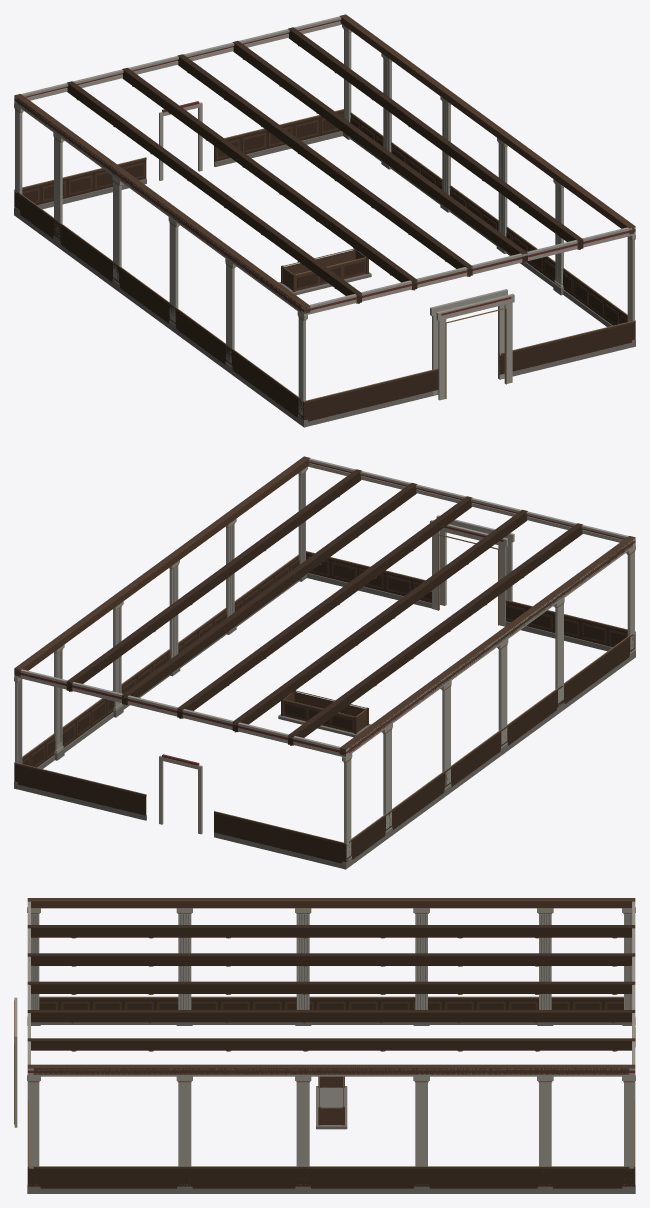
File: wrap.glb
The picture shows the model from 3 angles, top to bottom: view 1: azimuth 30°, elevation 25°; view 2: azimuth 150°, elevation 25°; view 3: azimuth 270°, elevation 25°; orthographic projection. The views are drawn at different scales.
Visible parts, largest first — view 1: m5_wrap; view 2: m5_wrap; view 3: m5_wrap.
Part boxes in pixels (left/top/right/bottom): m5_wrap: left=14, top=14, right=635, bottom=427; m5_wrap: left=14, top=456, right=635, bottom=869; m5_wrap: left=14, top=898, right=635, bottom=1193.
Bounding box in the file's own units: 15.6 × 5.4 × 24.15.
